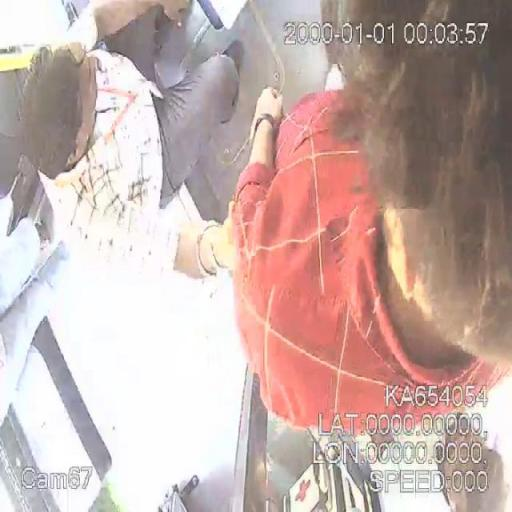persona: (227, 2, 511, 456), (14, 0, 244, 280)
